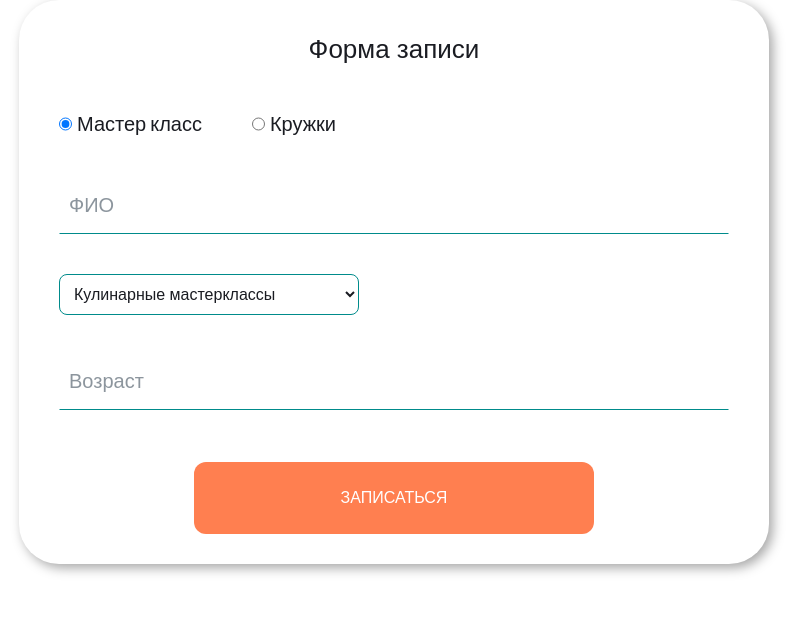
Test: Компонент Form › Должен показать ошибку при некорректном заполнении поля ФИО
Type "Иванов Иван" into the field labelled "ФИО" at (394, 212), box x1=59 y1=190 x2=729 y2=234
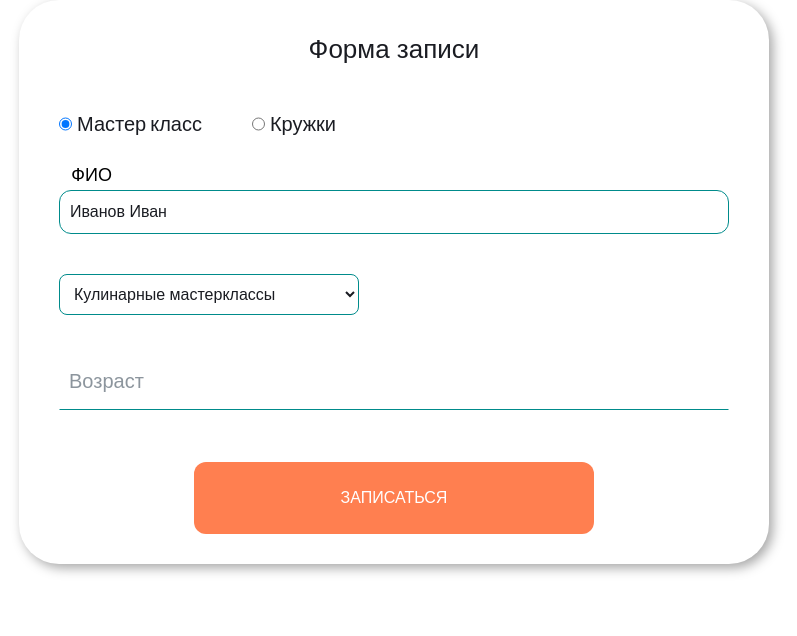
Click the button "записаться" at (394, 498), box x1=194 y1=462 x2=594 y2=534
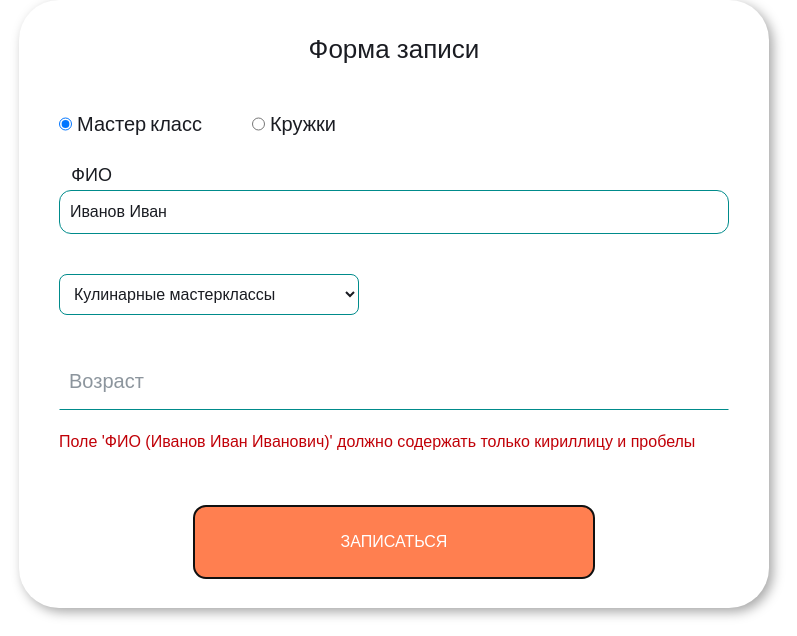
Now the text "должно содержать только кириллицу и пробелы" is shown, box x1=59 y1=433 x2=695 y2=450
